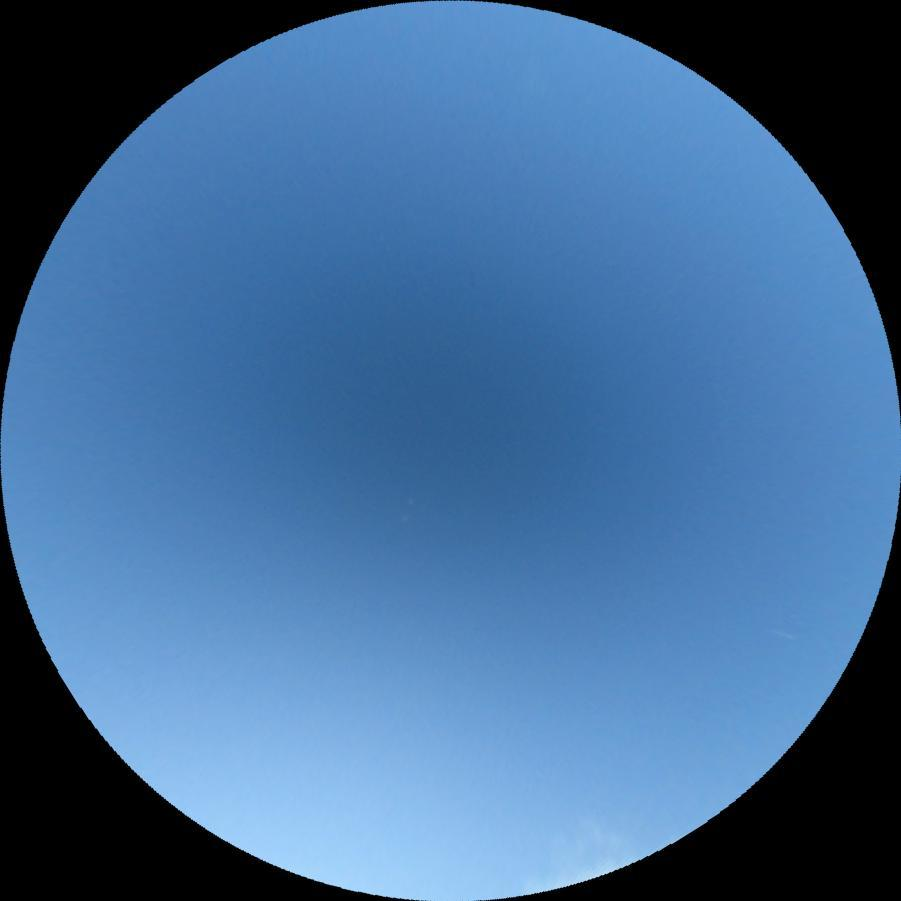contrail young: (765, 624, 797, 640)
